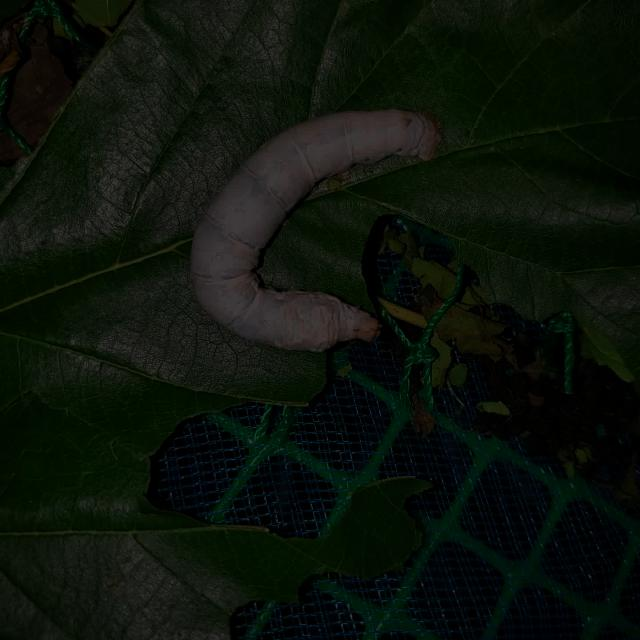Healthy: (175, 86, 457, 377)
